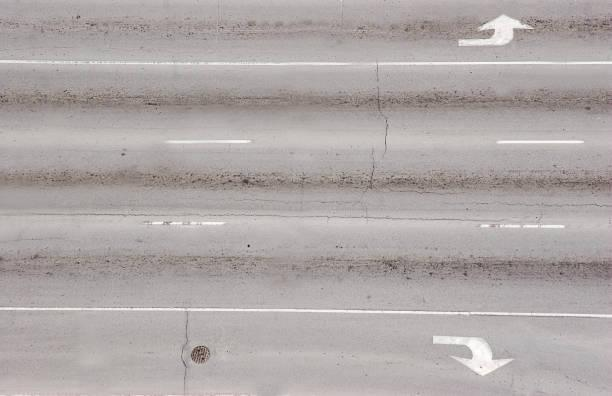faded_road_lines: (429, 332, 518, 377), (457, 13, 537, 51), (463, 220, 573, 243), (486, 132, 591, 152), (137, 215, 236, 236), (159, 136, 261, 150)
